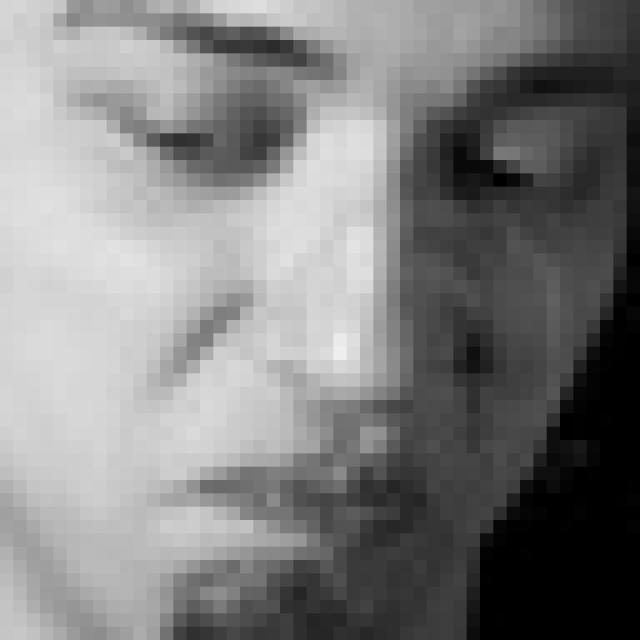disgust: (51, 29, 640, 568)
